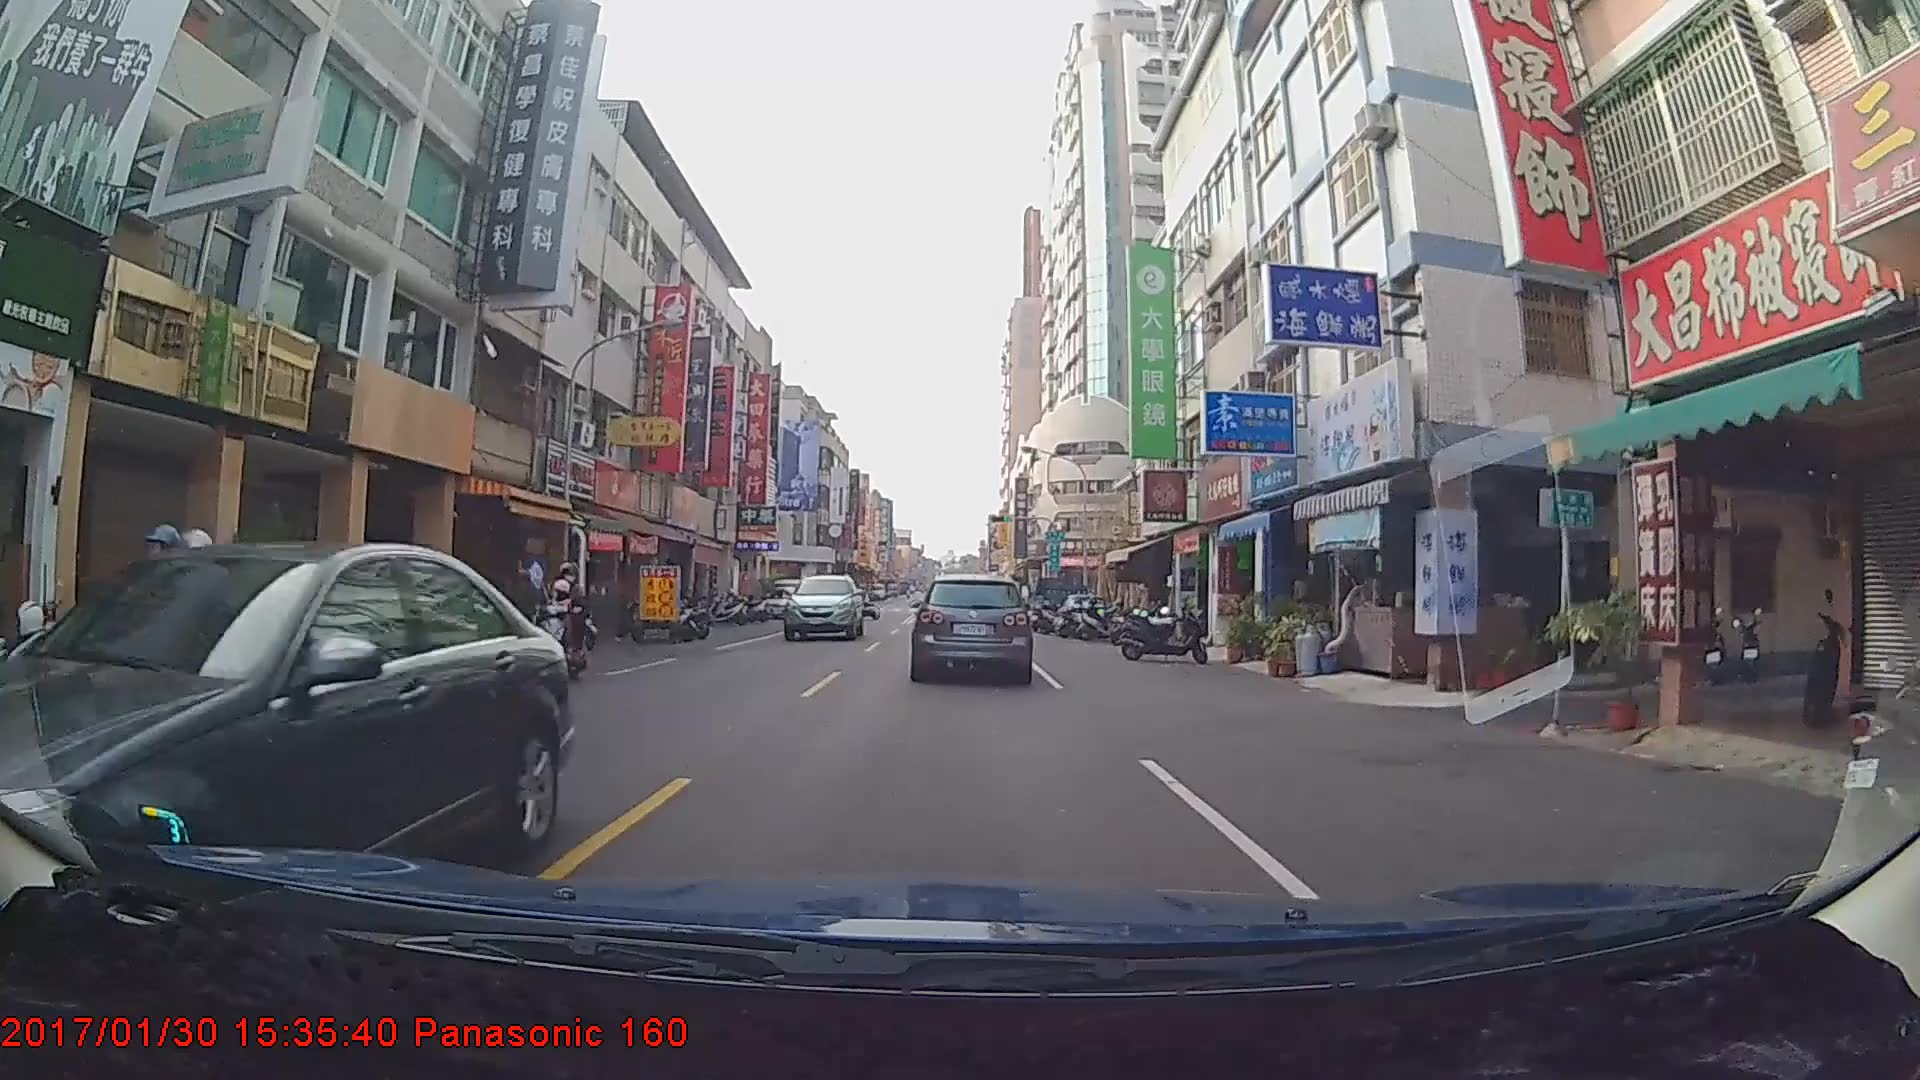vehicle: (0, 537, 568, 938), (913, 571, 1031, 682), (781, 574, 866, 642), (1025, 574, 1084, 626)
